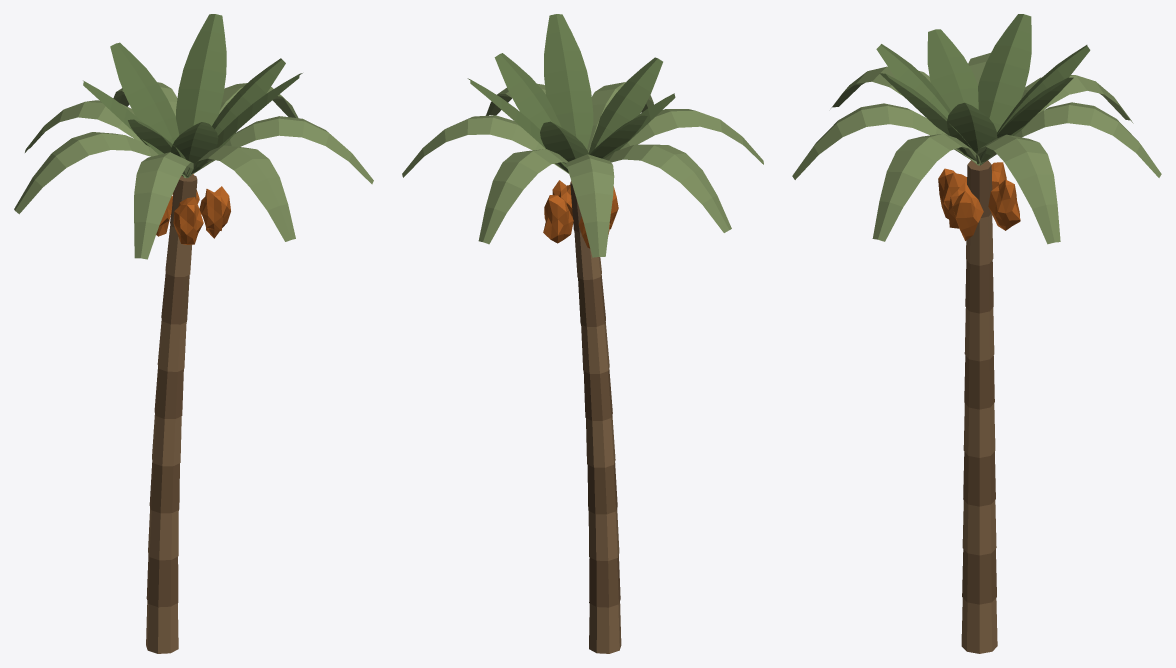
The model's file is DE_Tree_DatePalm.obj.
The picture shows the model from 3 angles, left to right: view 1: azimuth 30°, elevation 25°; view 2: azimuth 150°, elevation 25°; view 3: azimuth 270°, elevation 25°; orthographic projection. The views are drawn at different scales.
Visible parts, largest first — view 1: frond_12, frond_5, frond_3, frond_10, frond_7, frond_1, frond_0, trunk_0, trunk_1, trunk_2, trunk_3, frond_9 (+13 smaller); view 2: frond_2, frond_9, frond_11, frond_7, frond_4, frond_13, frond_0, frond_5, trunk_0, trunk_1, trunk_2, trunk_3 (+10 smaller); view 3: frond_8, frond_1, frond_13, frond_6, frond_3, frond_11, frond_0, trunk_0, trunk_1, trunk_2, trunk_3, trunk_4 (+14 smaller).
Part boxes in pixels (box(x1,y1,x2,y2)): frond_12: box(176, 14, 226, 134); frond_5: box(134, 152, 193, 259); frond_3: box(185, 145, 295, 241); frond_10: box(110, 42, 184, 177); frond_7: box(14, 132, 186, 214); frond_1: box(187, 116, 373, 184); frond_0: box(188, 58, 285, 177); trunk_0: box(146, 601, 178, 653); trunk_1: box(146, 554, 178, 607); trunk_2: box(148, 507, 178, 560); trunk_3: box(149, 461, 179, 513); frond_9: box(25, 100, 185, 177); frond_2: box(544, 14, 593, 148); frond_9: box(566, 154, 614, 257); frond_11: box(478, 149, 567, 244); frond_7: box(604, 144, 731, 232); frond_4: box(588, 57, 662, 154); frond_13: box(402, 115, 568, 177); frond_0: box(494, 53, 561, 129); frond_5: box(620, 109, 763, 164); trunk_0: box(589, 602, 621, 653); trunk_1: box(589, 555, 620, 607); trunk_2: box(588, 508, 619, 560); trunk_3: box(587, 462, 617, 514); frond_8: box(978, 14, 1031, 132); frond_1: box(872, 133, 981, 241); frond_13: box(976, 134, 1060, 244); frond_6: box(927, 29, 978, 164); frond_3: box(792, 103, 979, 179); frond_11: box(979, 102, 1161, 177); frond_0: box(947, 102, 997, 162); trunk_0: box(961, 598, 997, 653); trunk_1: box(962, 549, 996, 604); trunk_2: box(962, 500, 996, 555); trunk_3: box(963, 451, 995, 506); trunk_4: box(963, 403, 995, 457).
Size of the model in its own units: 15.21 by 27.66 by 14.91.
